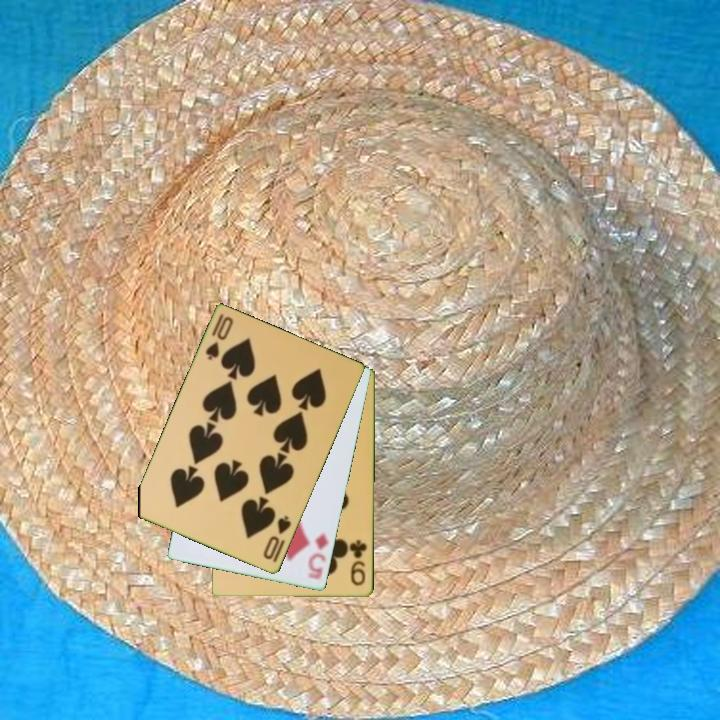10s: (202, 310, 236, 363), (260, 512, 294, 563)
5d: (305, 529, 332, 583)
9c: (347, 536, 370, 589)
